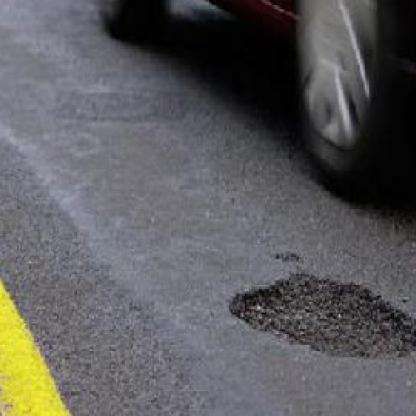pothole: (225, 268, 416, 357), (271, 247, 300, 264)
